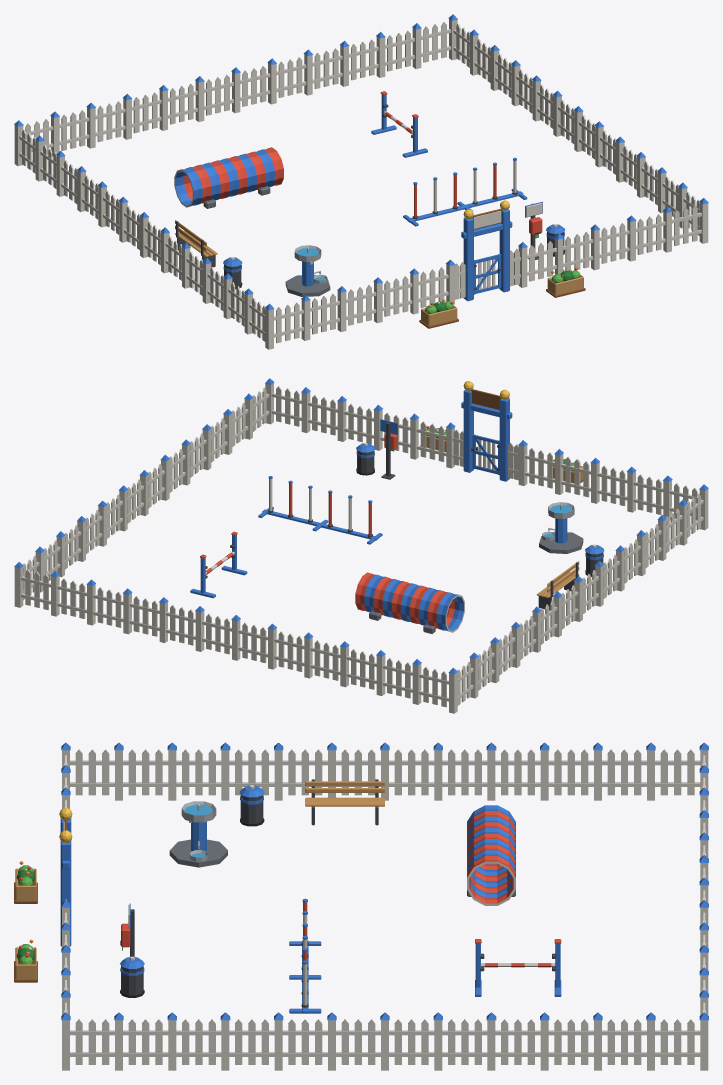
Rendered from town-dog-park.glb.
3 views of the same model, one above another, from view 1: azimuth 30°, elevation 25°; view 2: azimuth 150°, elevation 25°; view 3: azimuth 270°, elevation 25° (orthographic). The views are drawn at different scales.
Visible parts, largest first — view 1: DogPark_Fence, AgilityTunnel, WeavePoles, WaterFountain, GateDoor, Planter_2, Planter_1, Bench, JumpBar, BagDispenser; view 2: DogPark_Fence, AgilityTunnel, WeavePoles, WaterFountain, GateDoor, Bench, JumpBar, BagDispenser; view 3: DogPark_Fence, AgilityTunnel, WaterFountain, Bench, WeavePoles, Planter_2, Planter_1, JumpBar, Bin_2, Bin_1.
Boxes of the visible parts, bbox=[...] form: DogPark_Fence: bbox=[14, 14, 708, 349]; AgilityTunnel: bbox=[174, 147, 283, 208]; WeavePoles: bbox=[403, 157, 527, 226]; WaterFountain: bbox=[285, 245, 330, 296]; GateDoor: bbox=[474, 254, 501, 294]; Planter_2: bbox=[546, 267, 585, 297]; Planter_1: bbox=[419, 299, 458, 328]; Bench: bbox=[175, 220, 217, 267]; JumpBar: bbox=[371, 91, 427, 157]; BagDispenser: bbox=[525, 201, 542, 259]; DogPark_Fence: bbox=[14, 378, 708, 713]; AgilityTunnel: bbox=[355, 572, 464, 633]; WeavePoles: bbox=[258, 476, 382, 544]; WaterFountain: bbox=[539, 502, 583, 553]; GateDoor: bbox=[472, 434, 499, 474]; Bench: bbox=[536, 561, 579, 610]; JumpBar: bbox=[190, 531, 247, 598]; BagDispenser: bbox=[380, 419, 397, 479]; DogPark_Fence: bbox=[59, 742, 708, 1070]; AgilityTunnel: bbox=[467, 805, 515, 905]; WaterFountain: bbox=[169, 801, 227, 867]; Bench: bbox=[305, 779, 384, 825]; WeavePoles: bbox=[289, 898, 321, 1013]; Planter_2: bbox=[14, 939, 37, 982]; Planter_1: bbox=[14, 861, 37, 903]; JumpBar: bbox=[475, 939, 561, 996]; Bin_2: bbox=[240, 794, 264, 826]; Bin_1: bbox=[120, 966, 144, 997].
Bounding box in the file's own units: 48.71 × 9.5 × 52.25.
